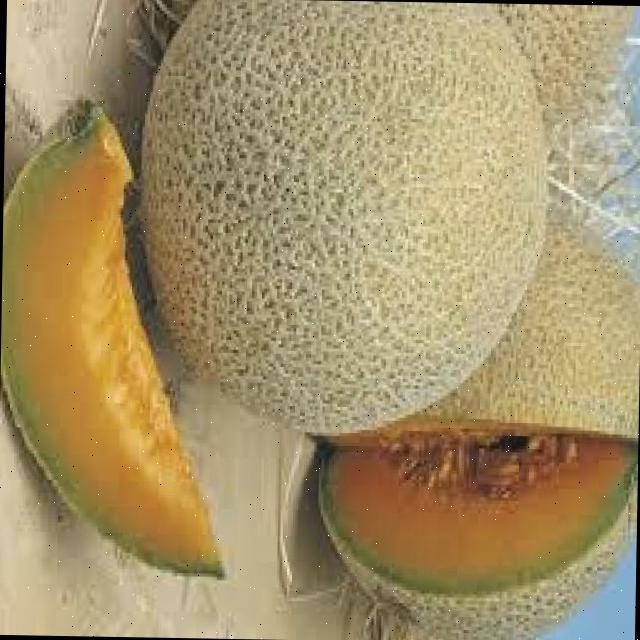Hami Melon: (140, 0, 547, 438), (308, 198, 640, 640), (0, 99, 233, 580)
